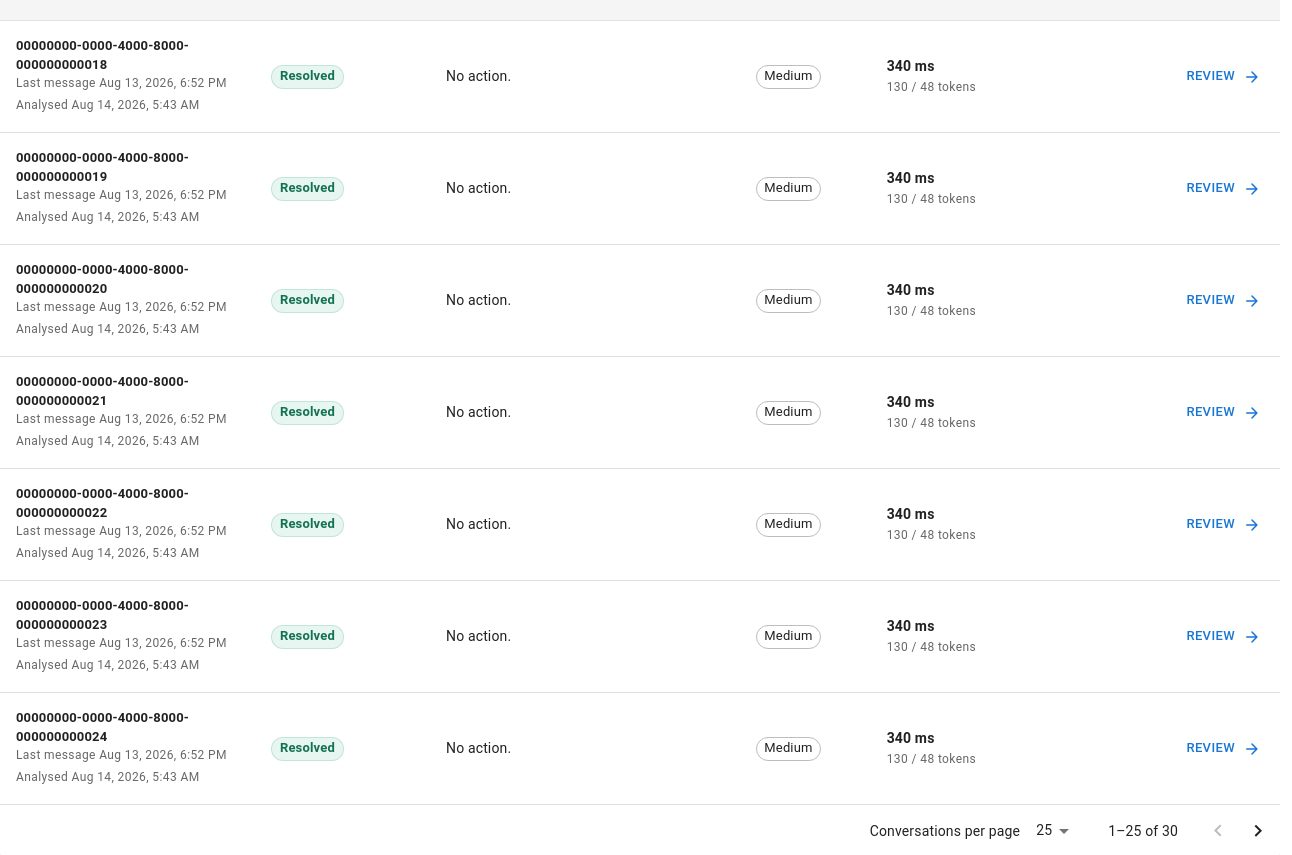
Test: ReviewerTable › requests the next page from the server
(page scrolled)
Click the button named "Go to next page".
click(1258, 831)  # box [1238, 811, 1278, 851]
(page scrolled)
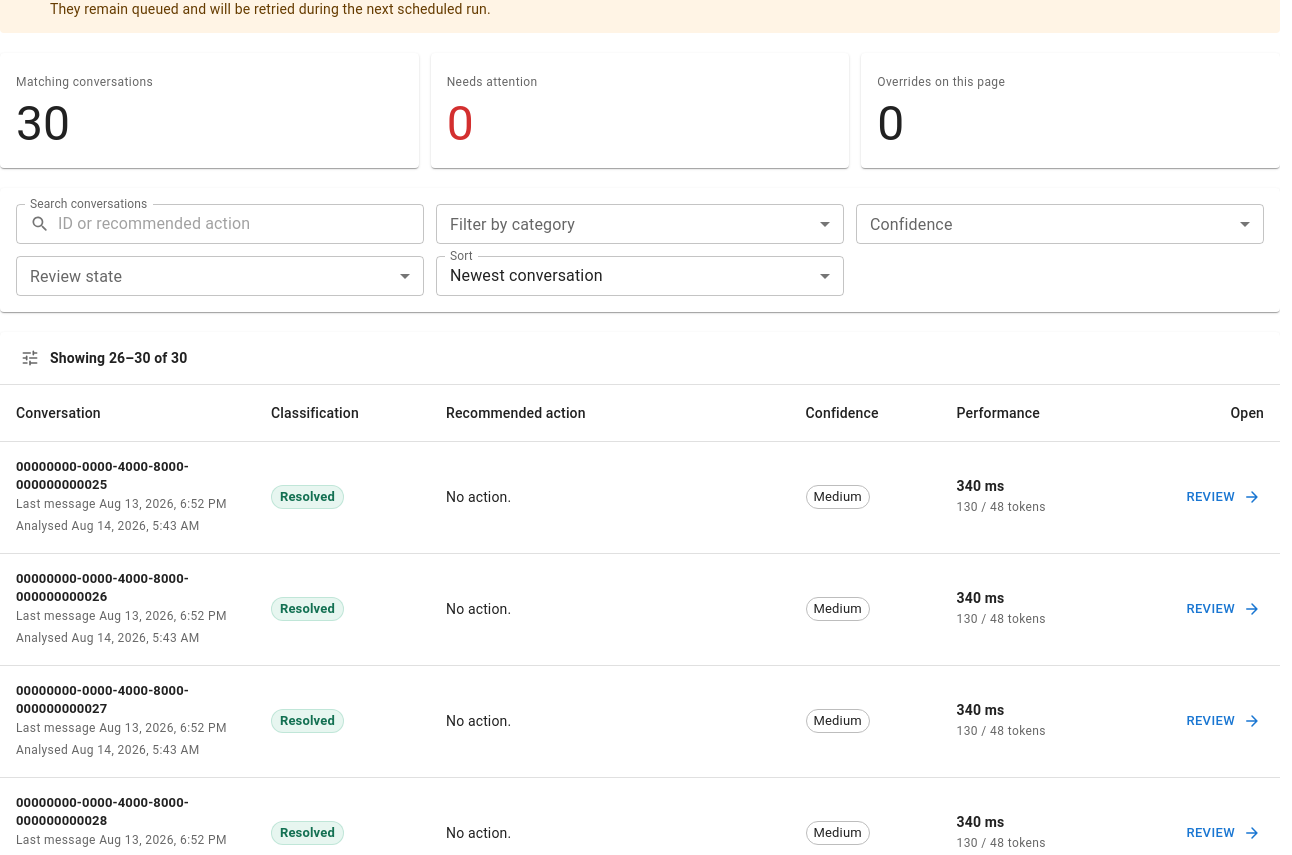
Check: the text "Showing 26–30 of 30" is shown, box [50, 348, 188, 368]
